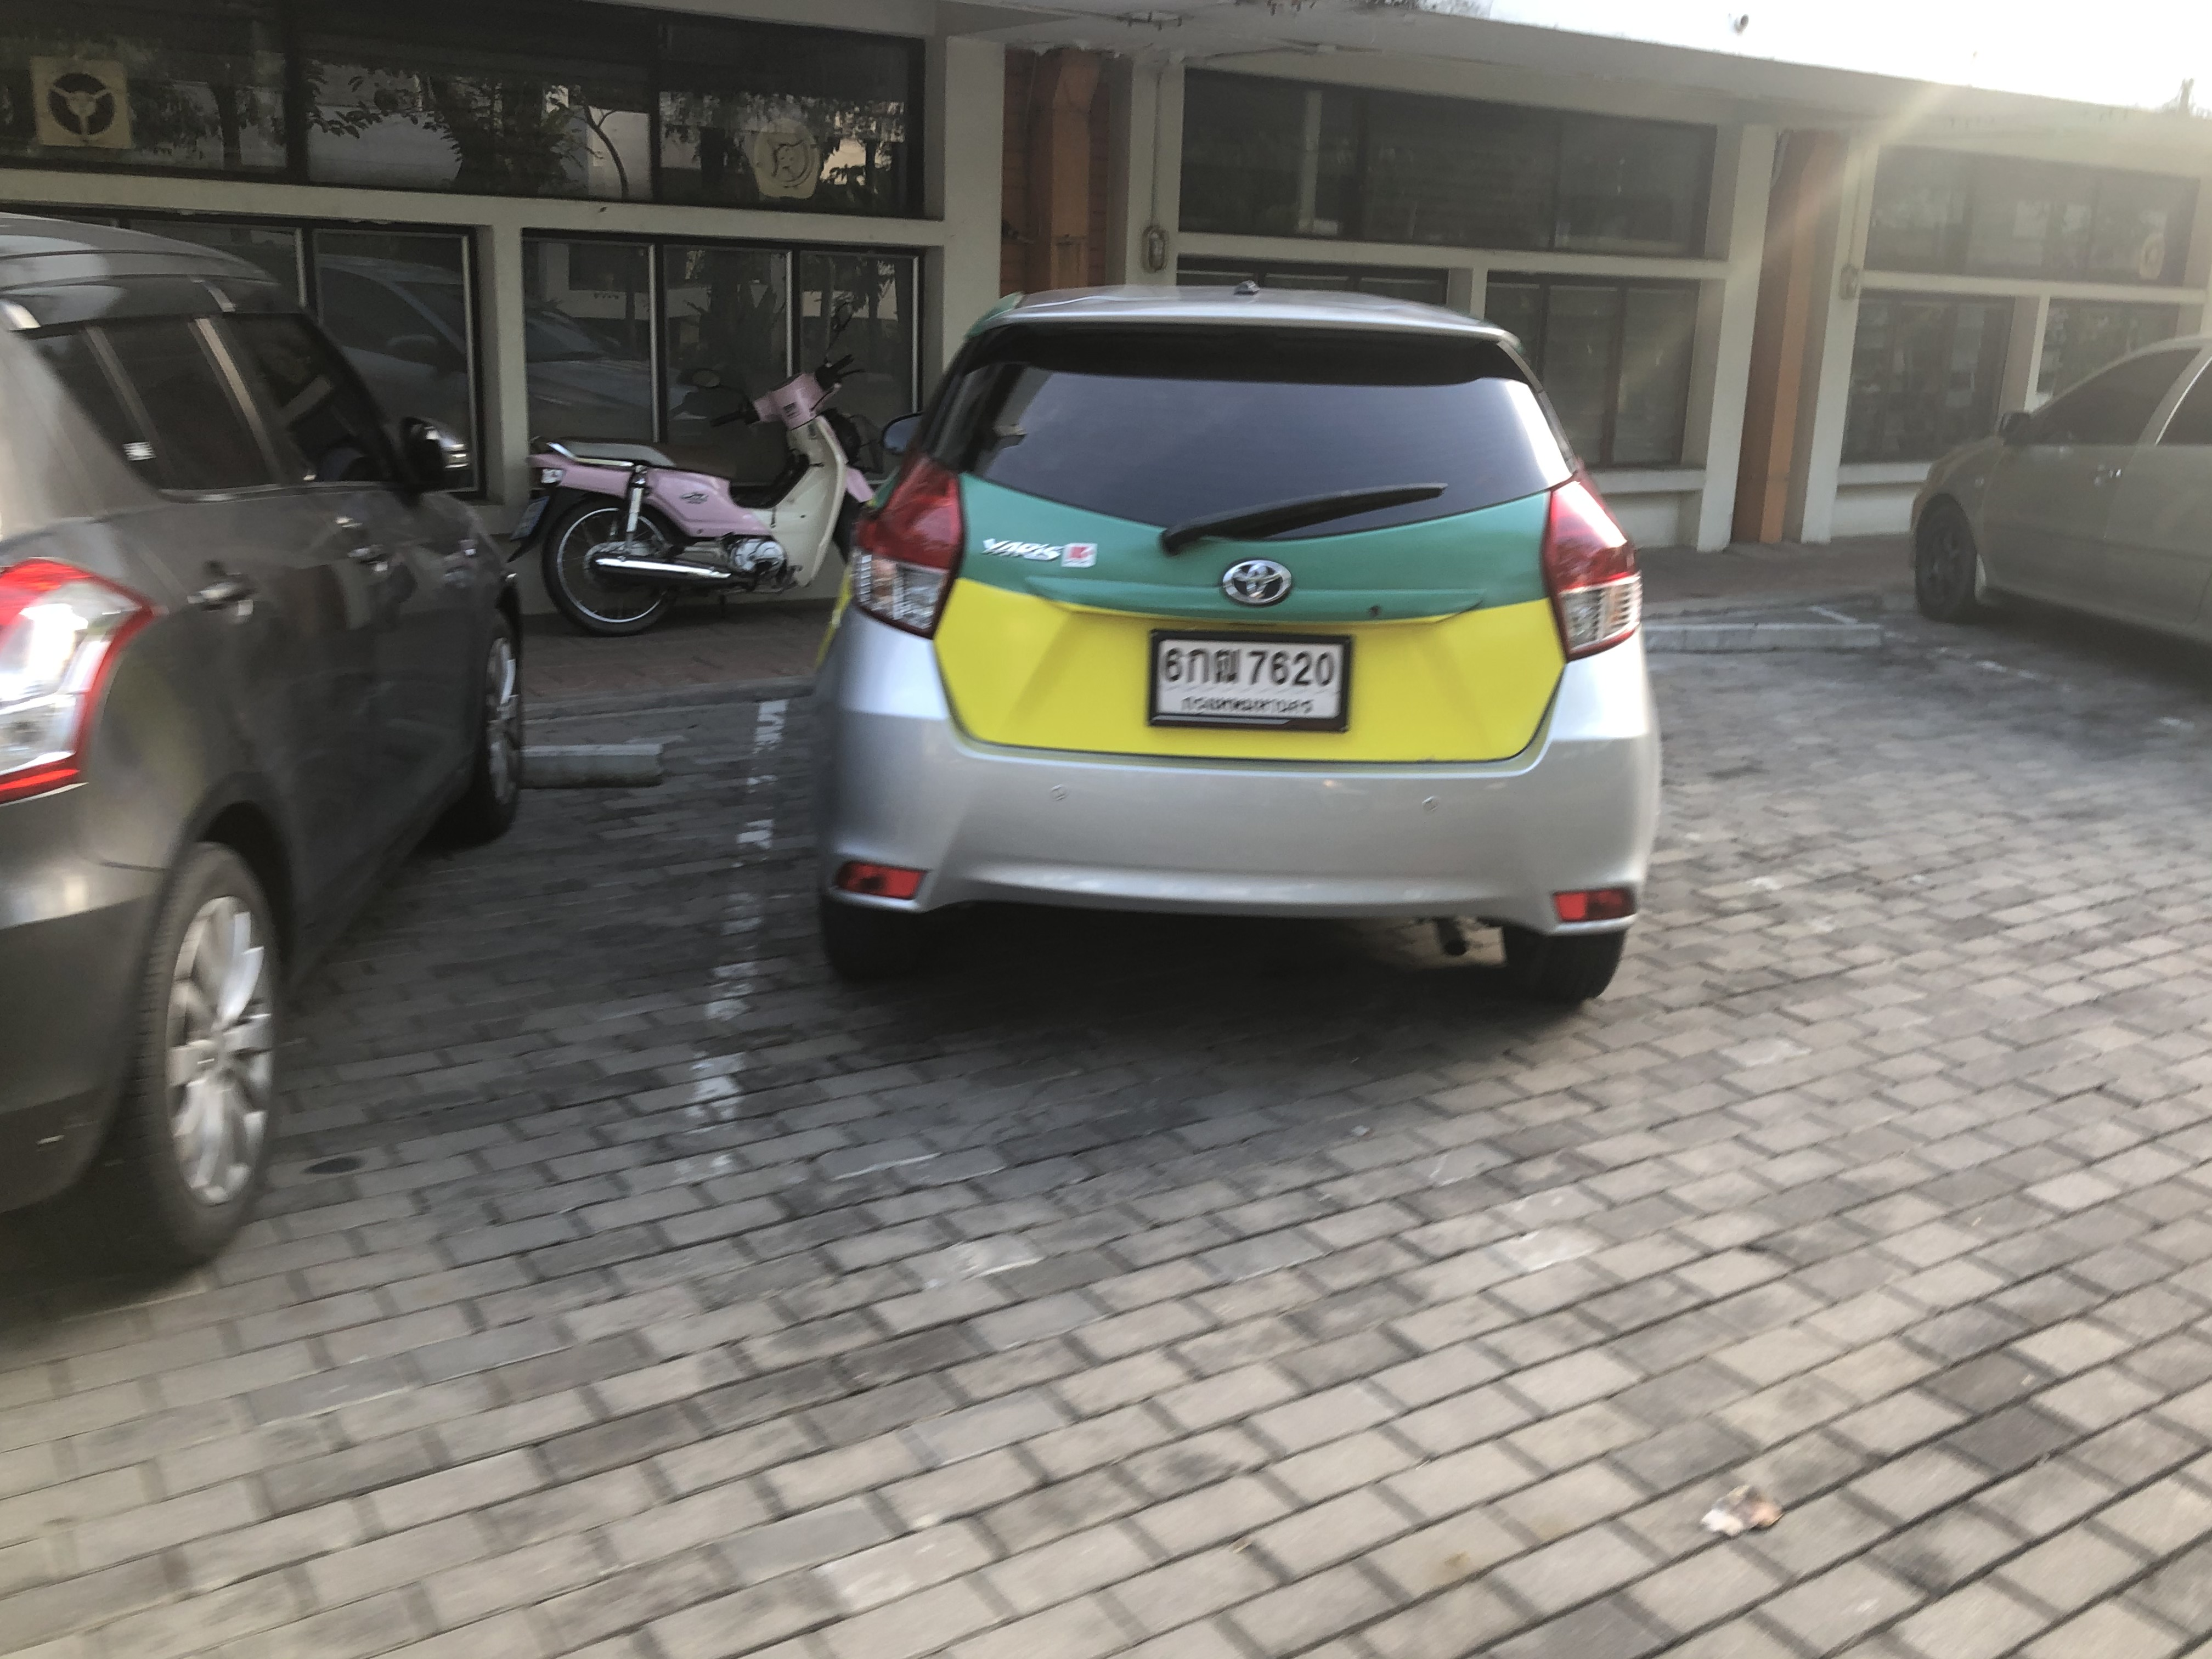in: (1162, 641, 1343, 721)
out: (1148, 626, 1360, 742)
